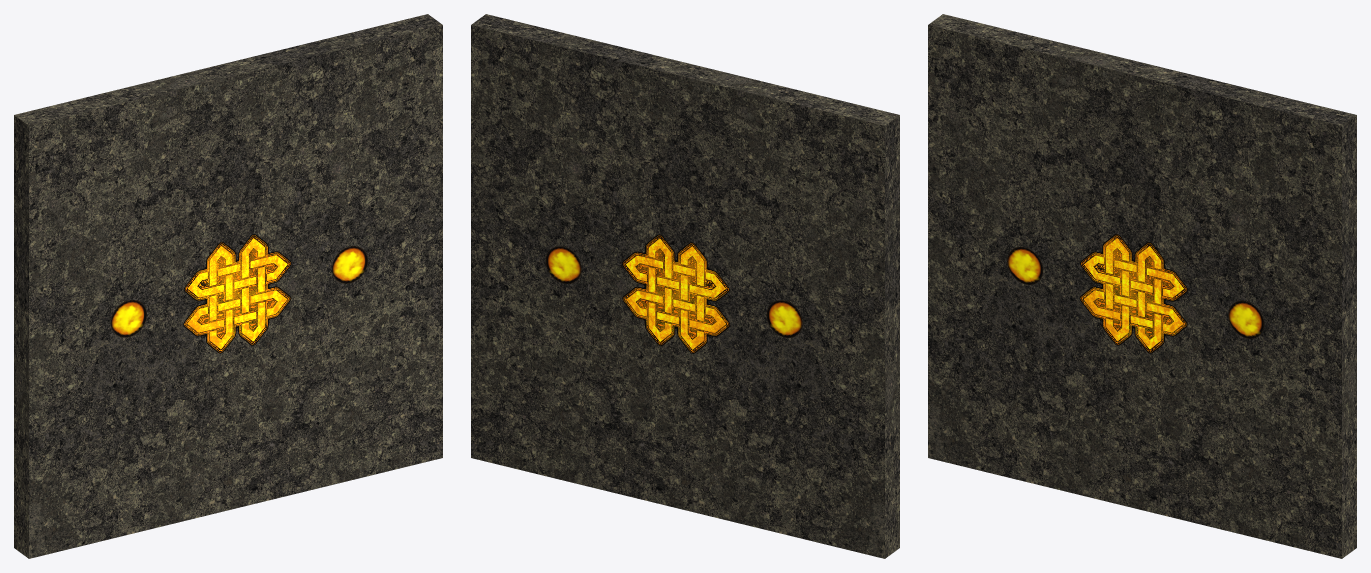
Rendered from mountain_wall2.gltf.
3 views of the same model, side by side, from view 1: azimuth 30°, elevation 25°; view 2: azimuth 150°, elevation 25°; view 3: azimuth 330°, elevation 25° (orthographic).
Parts seen in each view (by area): view 1: mountain_wall2_glb; view 2: mountain_wall2_glb; view 3: mountain_wall2_glb.
Boxes of the visible parts, x1,y1,x2,y2 form: mountain_wall2_glb: (14,14,442,558); mountain_wall2_glb: (471,14,899,558); mountain_wall2_glb: (928,14,1356,558).
Size of what is drawn, in the model's own units: 4 by 4 by 0.3032.
2 materials, 2 textured.
